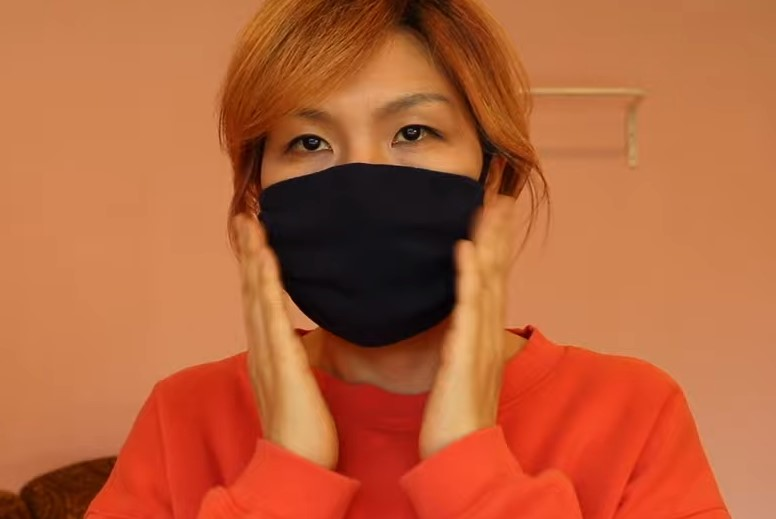face_with_mask: (239, 9, 522, 342)
